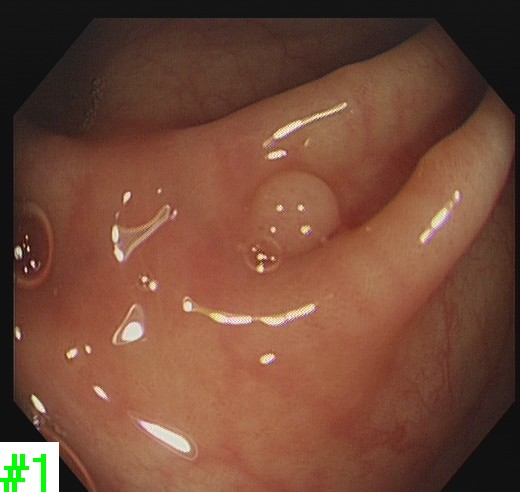adenoma: (245, 166, 343, 261)
